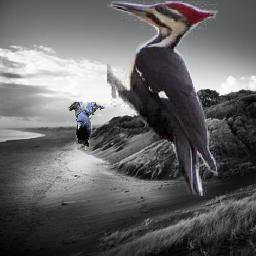Crow: (67, 102, 105, 150)
Woodpecker: (108, 2, 219, 197)
